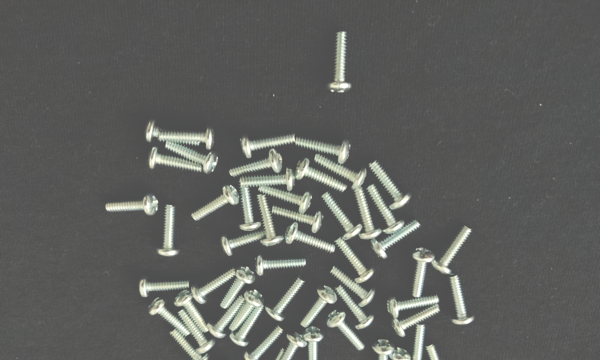shortscrew: (369, 160, 412, 210), (431, 226, 473, 275), (371, 220, 421, 260), (295, 157, 349, 193), (264, 276, 305, 323), (314, 153, 367, 189), (367, 184, 405, 234), (335, 237, 375, 284), (164, 142, 219, 176), (191, 184, 241, 221), (335, 285, 375, 331), (330, 267, 376, 307), (326, 309, 366, 352), (148, 297, 191, 337), (178, 309, 216, 354), (326, 31, 353, 94), (209, 295, 246, 340), (295, 135, 352, 164), (392, 305, 442, 338), (284, 222, 337, 253), (158, 123, 216, 151), (229, 148, 283, 178), (258, 185, 313, 214), (256, 193, 285, 248), (146, 144, 201, 173), (229, 303, 264, 348), (272, 204, 324, 234), (239, 132, 296, 159), (229, 289, 264, 332), (239, 167, 295, 193), (244, 326, 284, 360), (450, 275, 476, 326), (387, 294, 440, 319), (219, 229, 265, 256), (411, 249, 436, 298), (237, 184, 263, 231), (254, 254, 307, 277), (170, 330, 210, 360), (106, 194, 159, 216), (140, 276, 190, 299), (160, 203, 180, 258), (273, 332, 309, 360), (406, 323, 428, 360), (304, 326, 324, 360), (425, 343, 456, 360), (373, 339, 395, 360), (387, 347, 412, 360)
